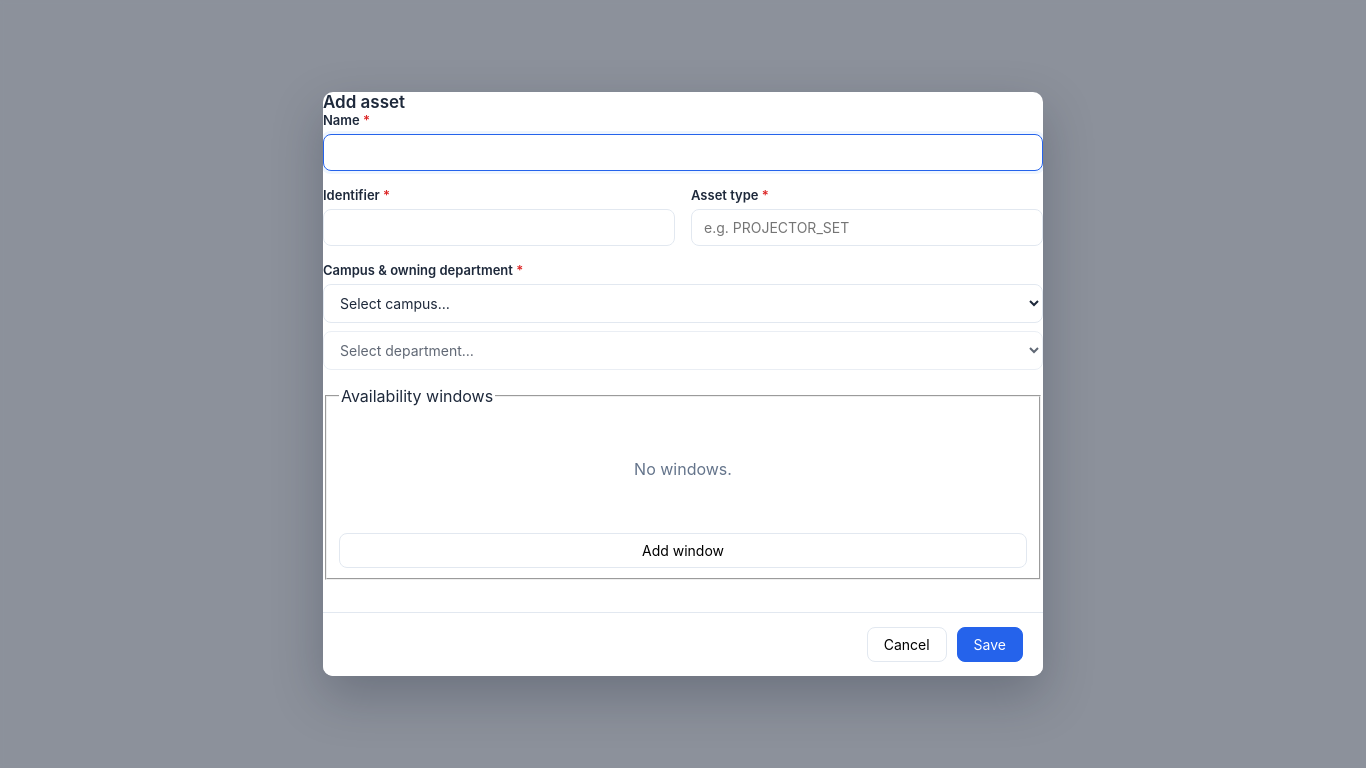
AssetFormModal › error handling › displays field-level errors from backend
Step 1. Type "Test Asset" into the field labelled "Name *" → (683, 152), box [323,134,1043,171]
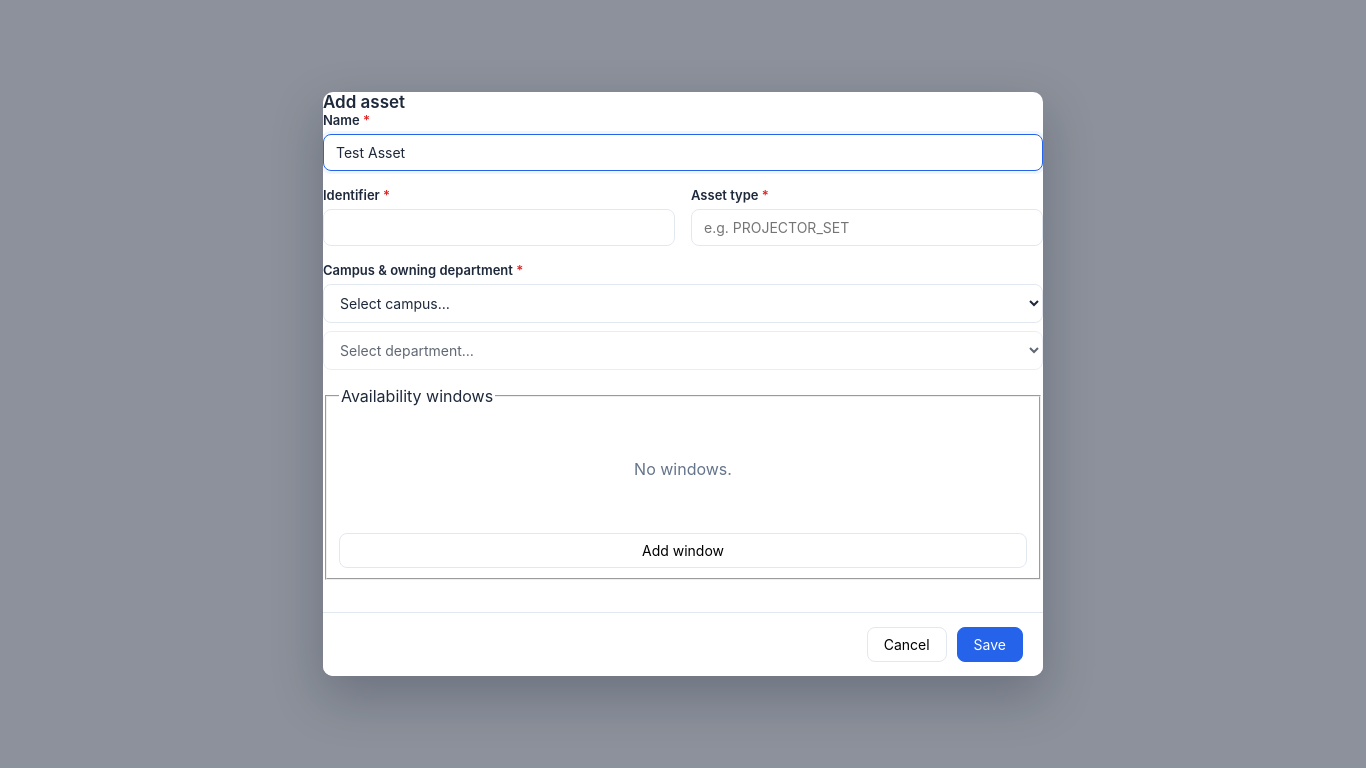
Step 2. Type "PROJ-001" into the field labelled "Identifier *" → (499, 227), box [323,209,675,246]
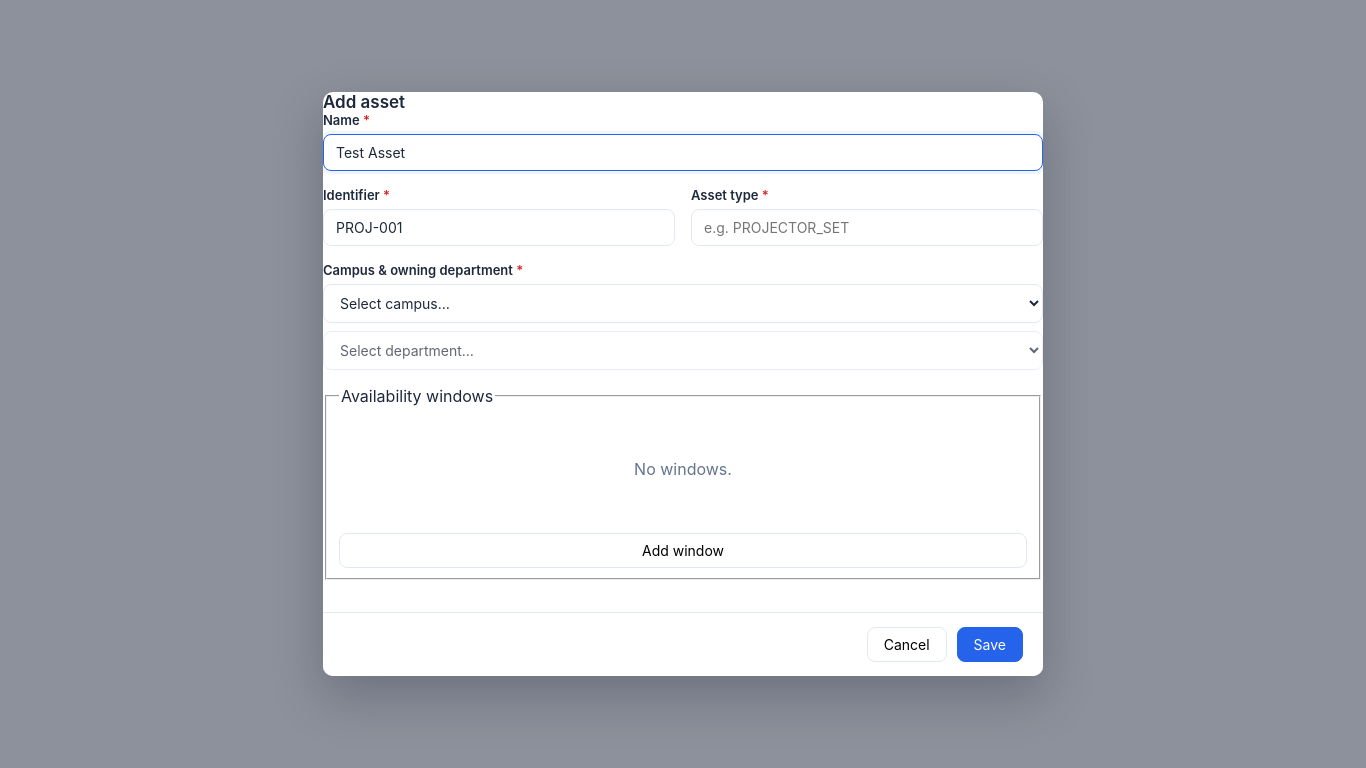
Step 3. Type "PROJECTOR_SET" into the field labelled "Asset type *" → (867, 227), box [691,209,1043,246]
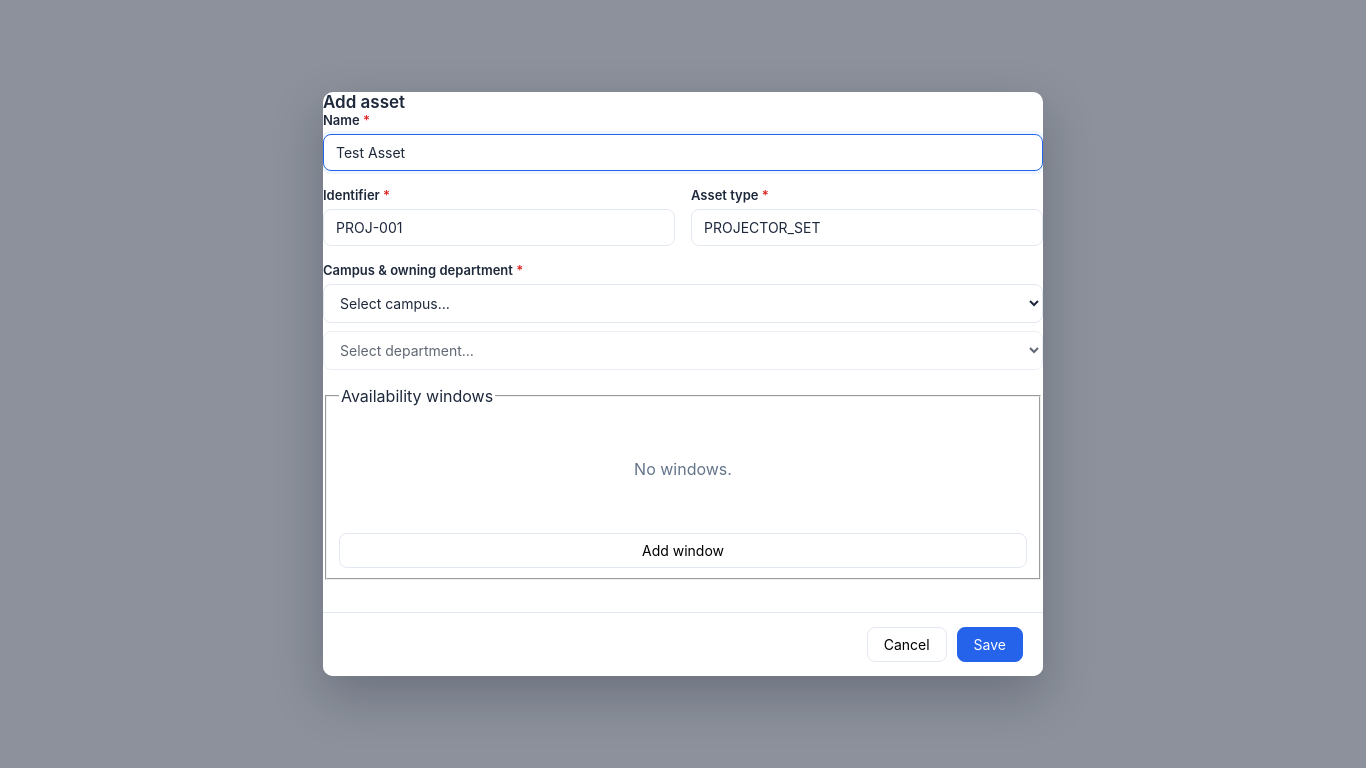
Step 4. Select "Main Campus" in the dropdown labelled "Campus & owning department *" → (683, 303), box [323,284,1043,323]
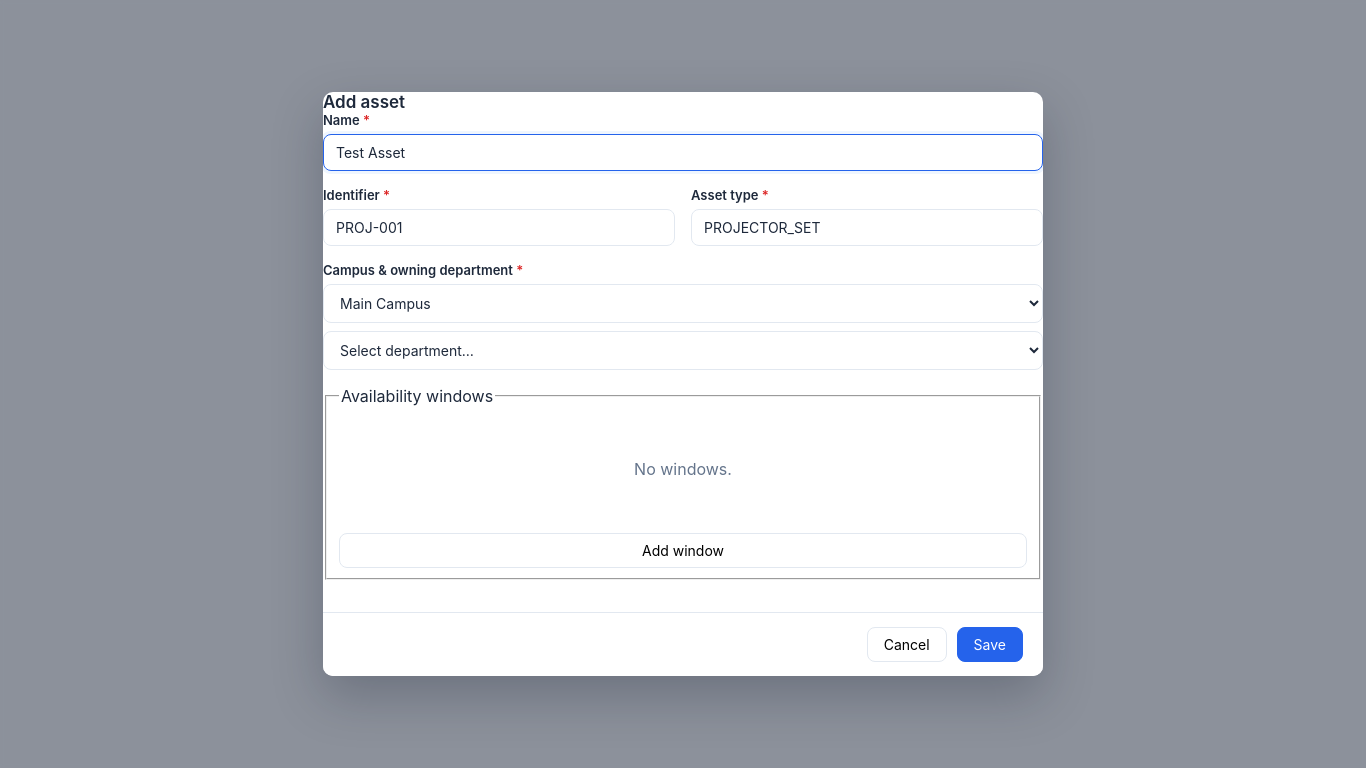
Step 5. Select "Computer Science" in the dropdown named "owning department" → (683, 350), box [323,331,1043,370]
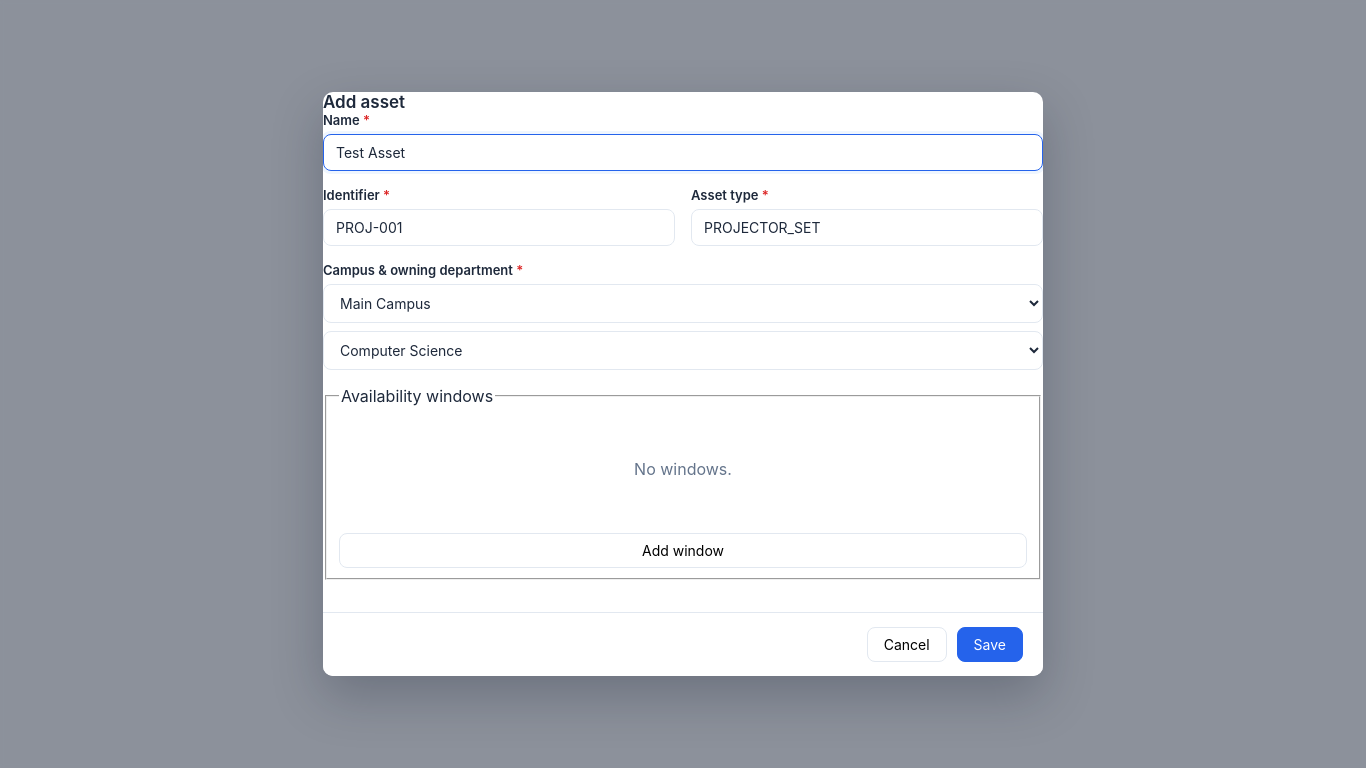
Step 6. Click the button "Save" → (990, 645), box [957,627,1023,662]
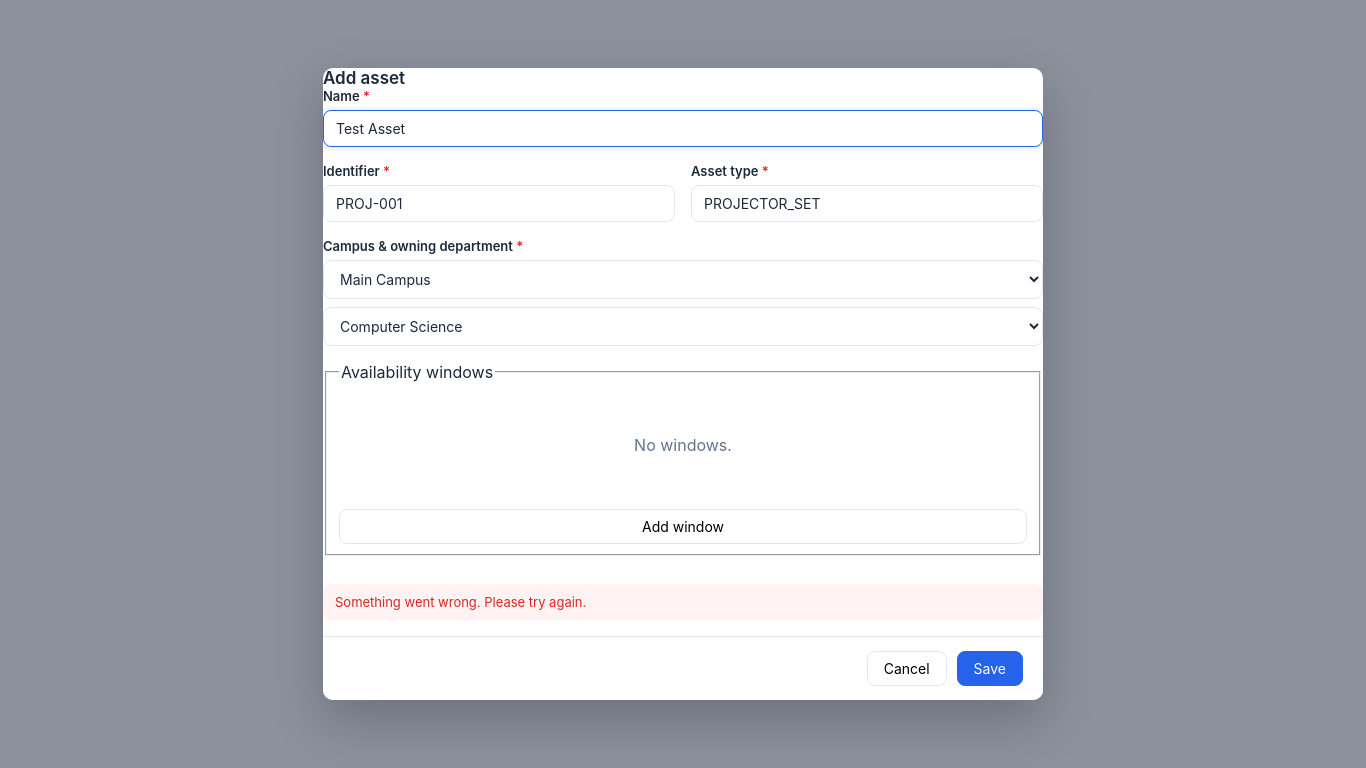
Expected: the message "Something went wrong. Please try again." is shown, [323,584,1043,620]
